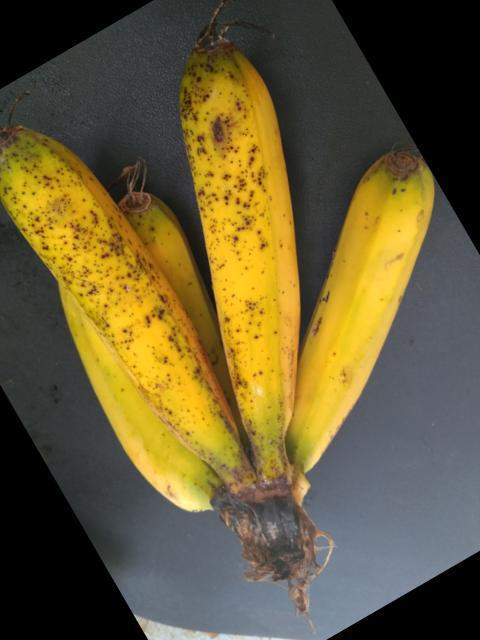ripe: (5, 122, 248, 470), (163, 13, 340, 471)
